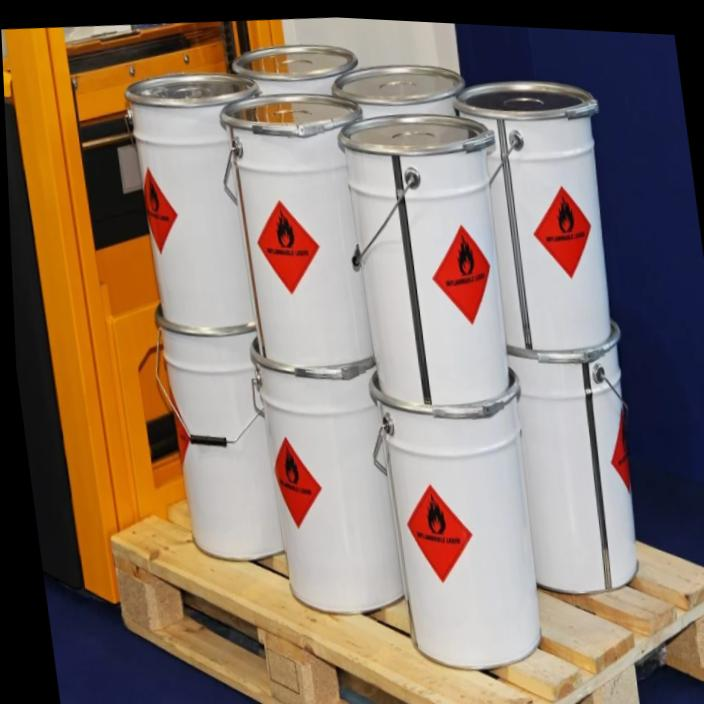can and bottle trash cans: (408, 484, 471, 582), (258, 201, 319, 293), (433, 226, 489, 323), (534, 186, 590, 277), (275, 437, 321, 527), (144, 168, 176, 253)
